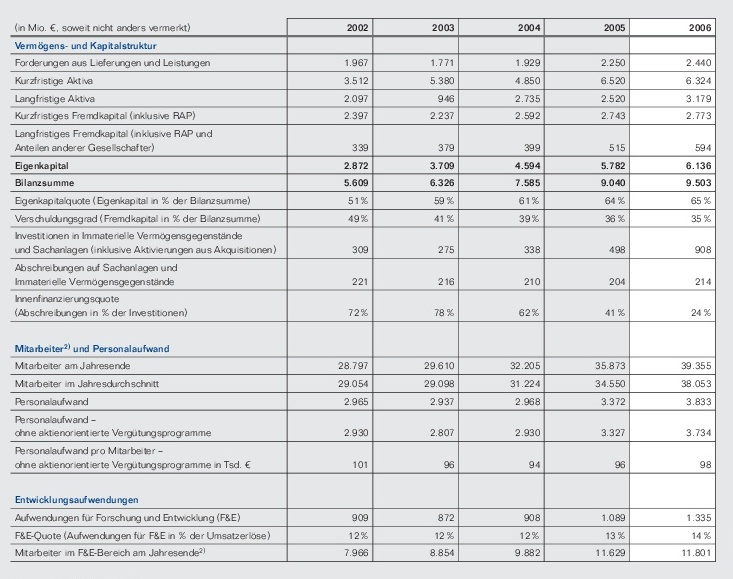table: (0, 0, 733, 579)
